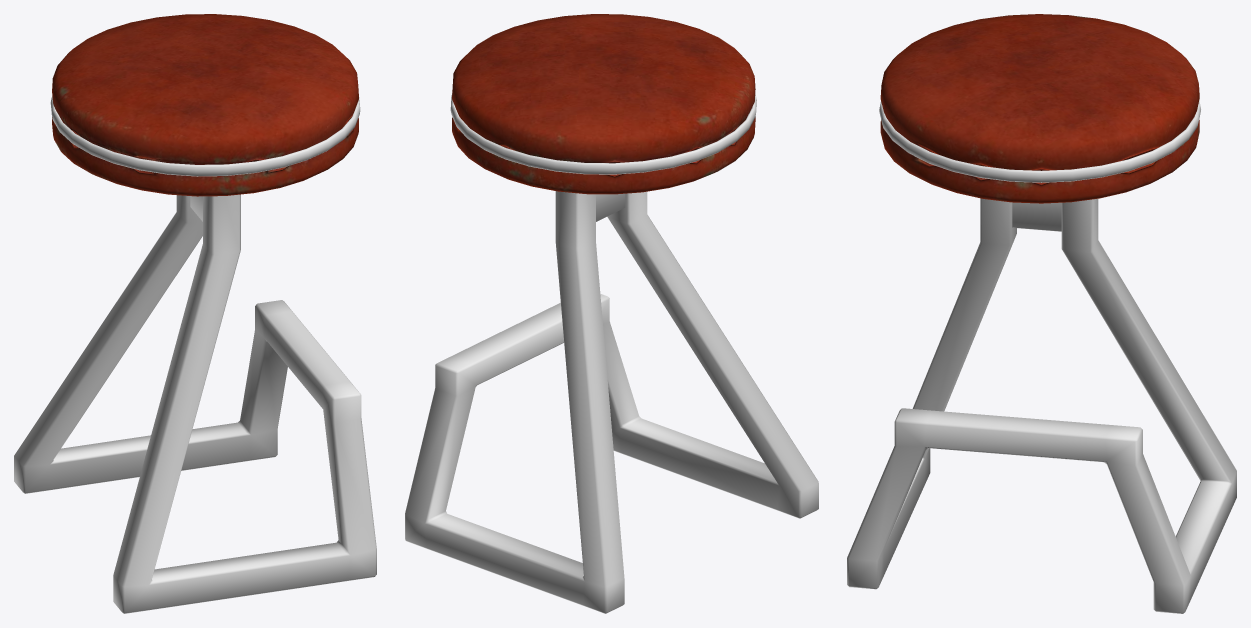
File: BarStool.fbx
3 views of the same model, side by side, from view 1: azimuth 30°, elevation 25°; view 2: azimuth 150°, elevation 25°; view 3: azimuth 270°, elevation 25° (orthographic). The views are drawn at different scales.
Parts seen in each view (by area): view 1: BarStool; view 2: BarStool; view 3: BarStool.
Boxes of the visible parts, x1,y1,x2,y2 form: BarStool: [14, 14, 376, 613]; BarStool: [405, 14, 818, 613]; BarStool: [847, 14, 1236, 613].
Bounding box in the file's own units: 46.82 × 73.14 × 53.46.
2 materials, 1 textured.
